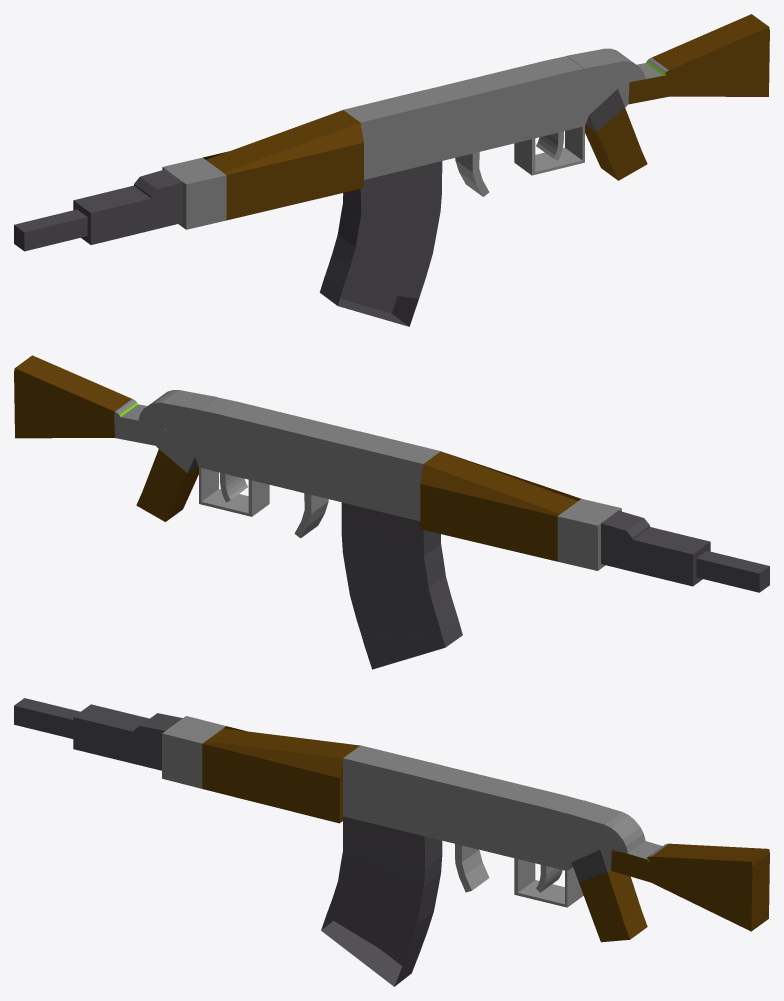
3 views of the same model, one above another, from view 1: azimuth 30°, elevation 25°; view 2: azimuth 150°, elevation 25°; view 3: azimuth 330°, elevation 25° (orthographic).
Parts seen in each view (by area): view 1: Cube; view 2: Cube; view 3: Cube.
Part boxes in pixels (<box>): Cube: <box>14,14,769,326</box>; Cube: <box>14,355,769,669</box>; Cube: <box>14,698,769,986</box>.
Bounding box in the file's own units: 908 × 254 × 50.95.
